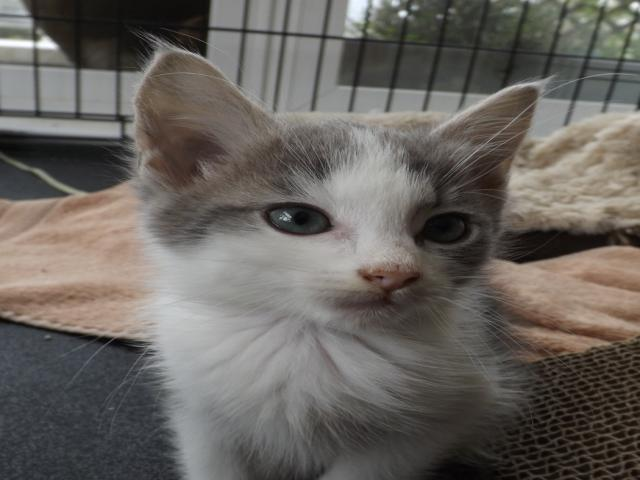Cat: (47, 30, 629, 480)
